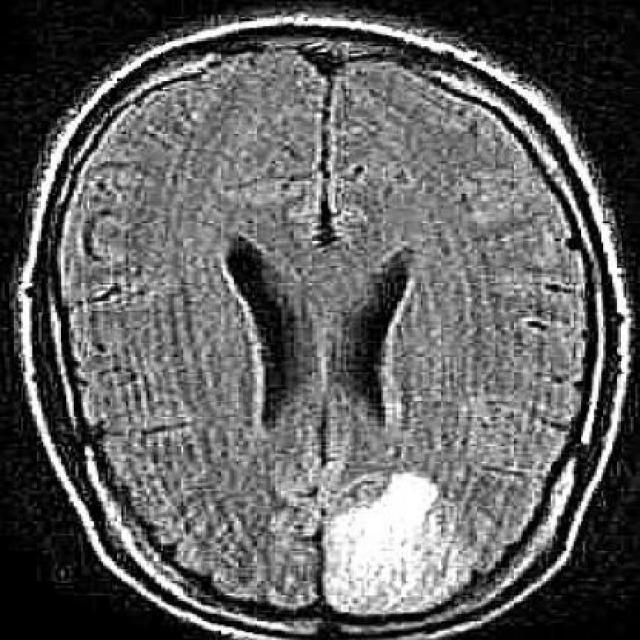Brain-Tumor: (318, 462, 494, 624)
